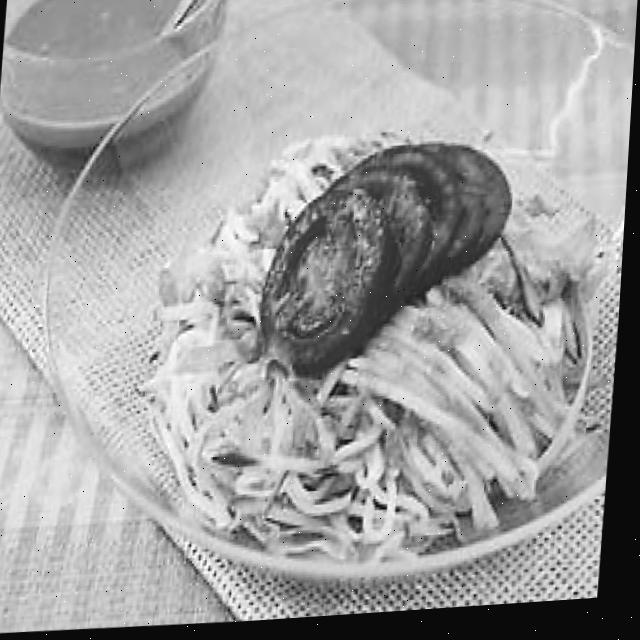面条主食: (16, 0, 640, 610)
